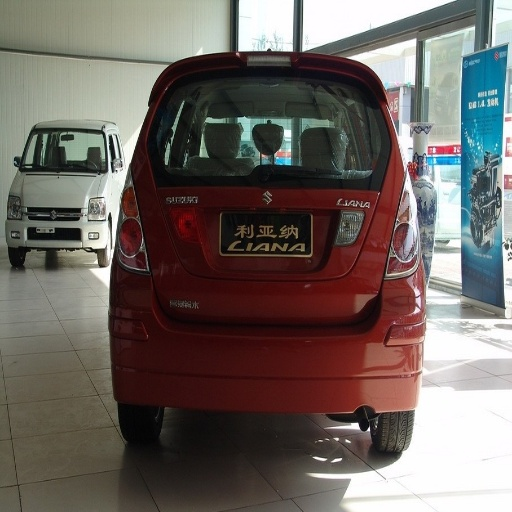back_bumper: (111, 246, 417, 419)
tailgate: (262, 164, 385, 315), (134, 174, 179, 278)
trunk: (153, 183, 334, 317), (318, 180, 397, 319)
